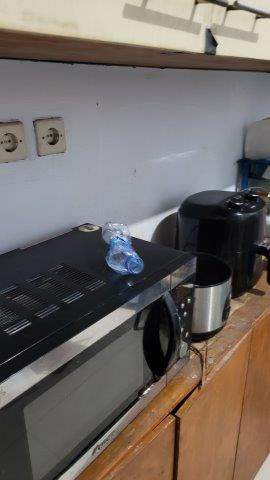botolplastik: (100, 219, 144, 279)
